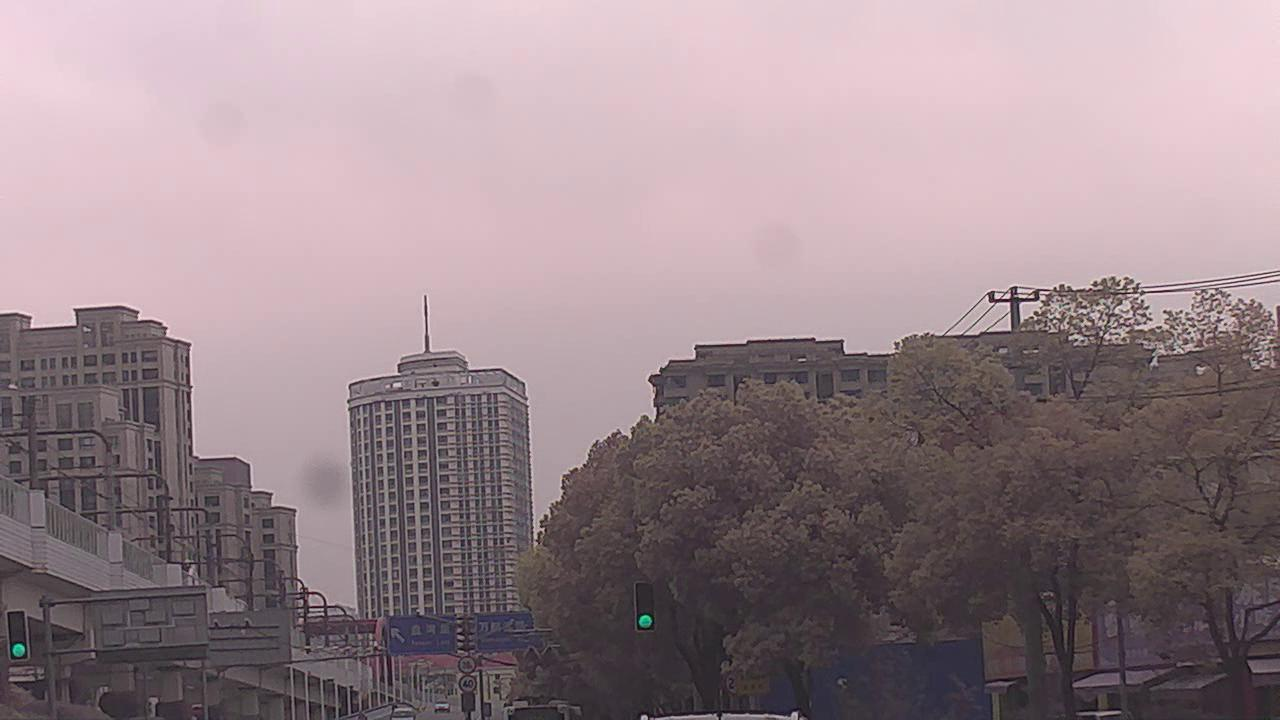traffic_light: (5, 611, 38, 658), (636, 582, 651, 627)
